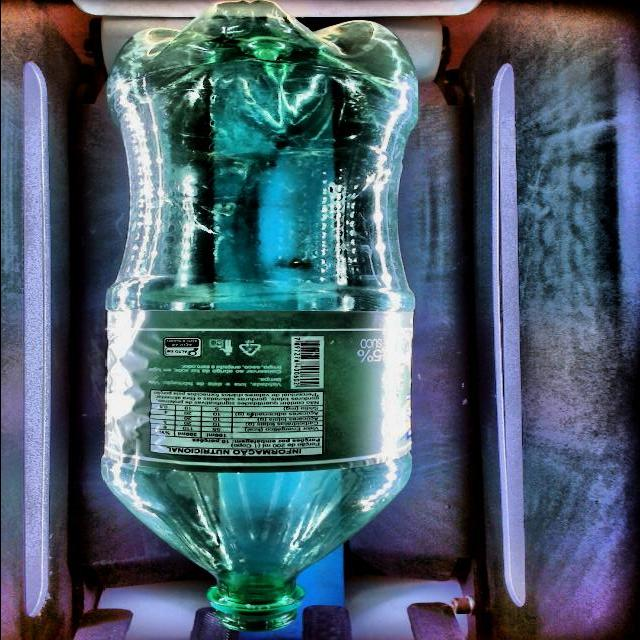bottom: (108, 3, 416, 309)
code: (290, 336, 322, 389)
label: (105, 310, 411, 472)
neck: (103, 456, 409, 631)
